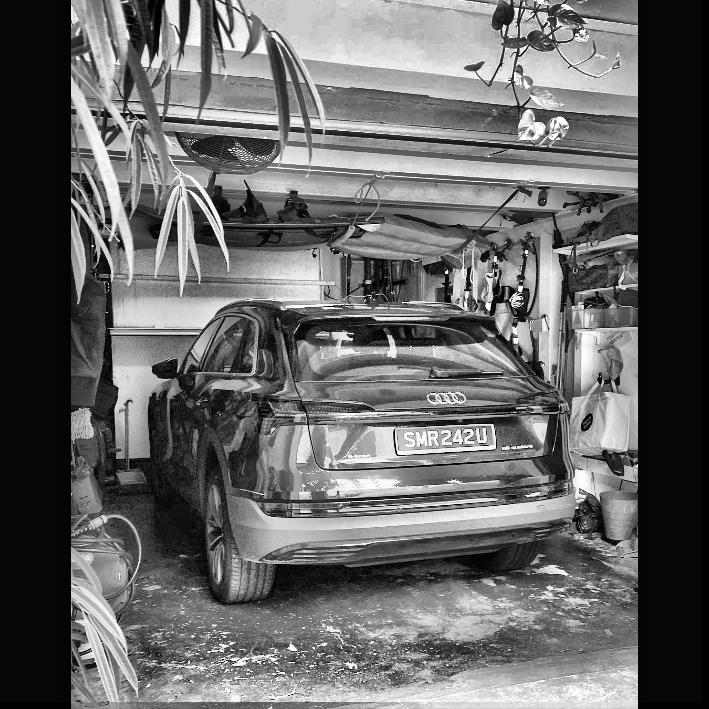License-Plates: (396, 425, 493, 450)
